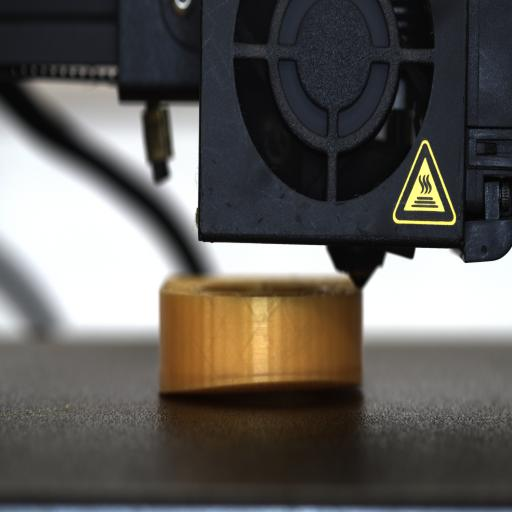warp: (160, 374, 354, 398)
